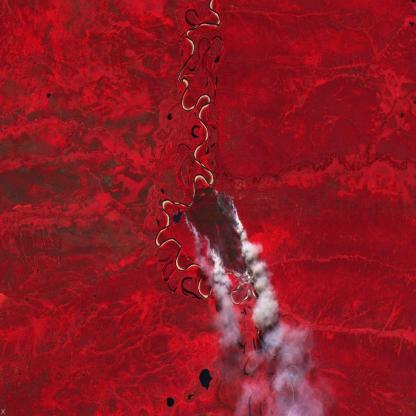fire: (181, 186, 254, 279)
